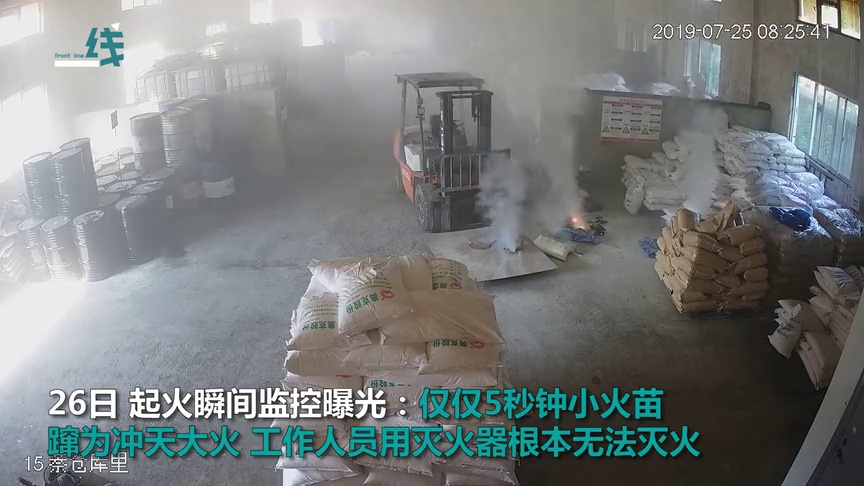smoke: (529, 114, 577, 226), (485, 150, 525, 243), (681, 99, 712, 213)
